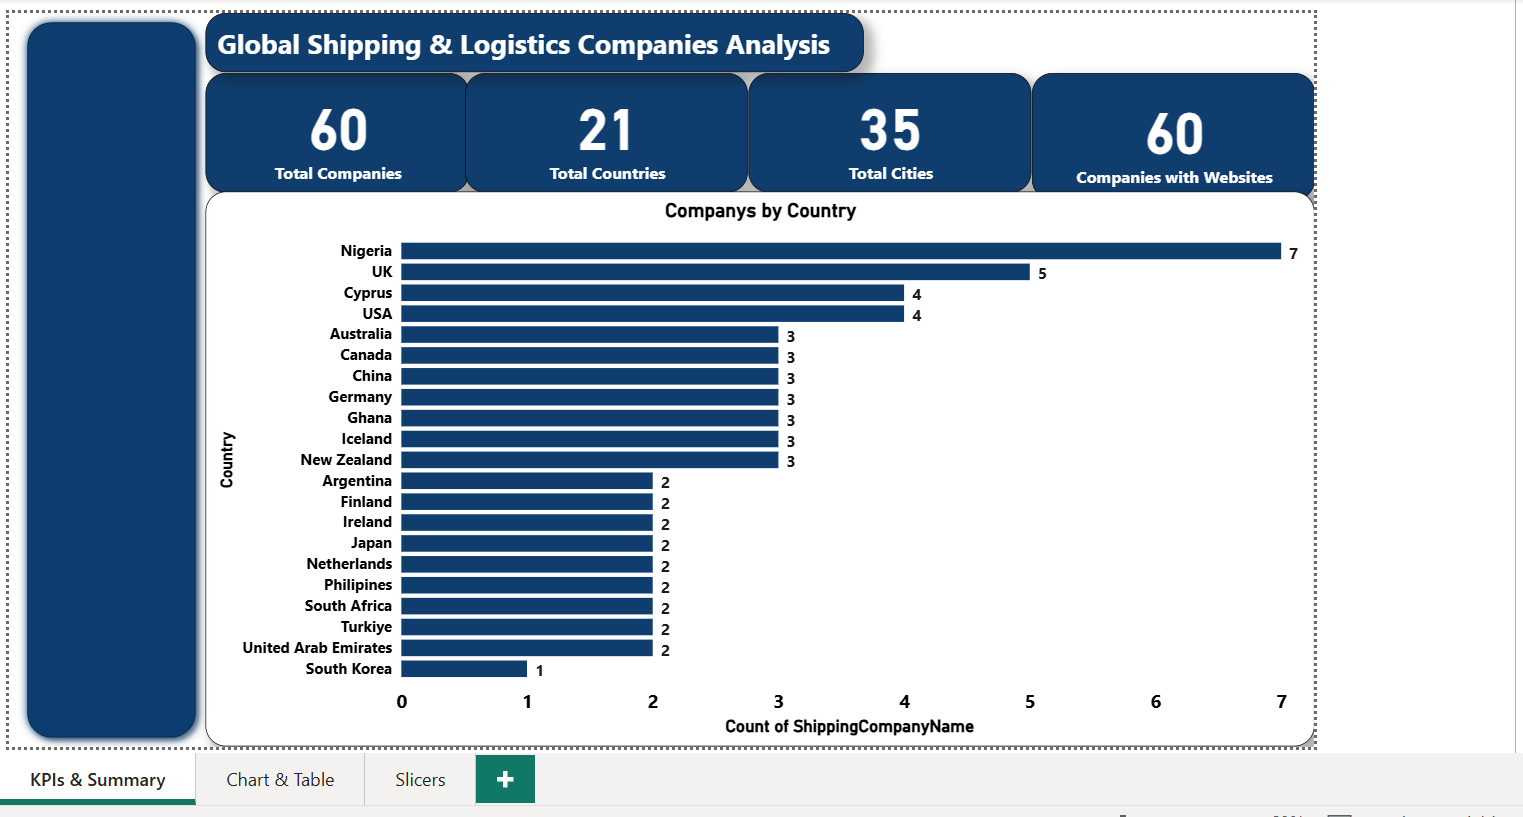

This screenshot's page, from the dashboard's own definition file:
{"tool":"powerbi","page":{"name":"KPIs & Summary","canvas":[1280,720],"ordinal":0},"visuals":[{"type":"shape","box":[9.4,0,183.1,719.3],"z":0},{"type":"card","fields":{"Values":["ShippingCompaniesDatabase.Total Companies"]},"box":[192.6,58.5,258.6,117.1],"z":1000},{"type":"card","fields":{"Values":["ShippingCompaniesDatabase.Total Countries"]},"box":[447.4,58.5,277.5,117.1],"z":2000},{"type":"card","fields":{"Values":["ShippingCompaniesDatabase.Total Cities"]},"box":[725,58.5,277.5,117.1],"z":3000},{"type":"card","fields":{"Values":["ShippingCompaniesDatabase.Companies with Websites"]},"box":[1002.5,58.5,277.5,124.6],"z":4000},{"type":"clusteredBarChart","title":"Companys by Country","fields":{"Category":["ShippingCompaniesDatabase.Country"],"Y":["CountNonNull(ShippingCompaniesDatabase.ShippingCompanyName)"]},"box":[192.6,175.6,1087.4,543.7],"z":5000},{"type":"textbox","box":[192.5,0,645.6,58.2],"z":6000}]}

Visuals, with their boxes on the page's 1280x720 design canvas (x1, y1, x2, y2). These are canvas units, not pixel positions in the 1523x817 screenshot, which may show the page scaled, cropped or inside an application window:
shape: l=9, t=0, r=192, b=719
card - ShippingCompaniesDatabase.Total Companies: l=193, t=58, r=451, b=176
card - ShippingCompaniesDatabase.Total Countries: l=447, t=58, r=725, b=176
card - ShippingCompaniesDatabase.Total Cities: l=725, t=58, r=1002, b=176
card - ShippingCompaniesDatabase.Companies with Websites: l=1002, t=58, r=1280, b=183
"Companys by Country" clusteredBarChart: l=193, t=176, r=1280, b=719
textbox: l=192, t=0, r=838, b=58
